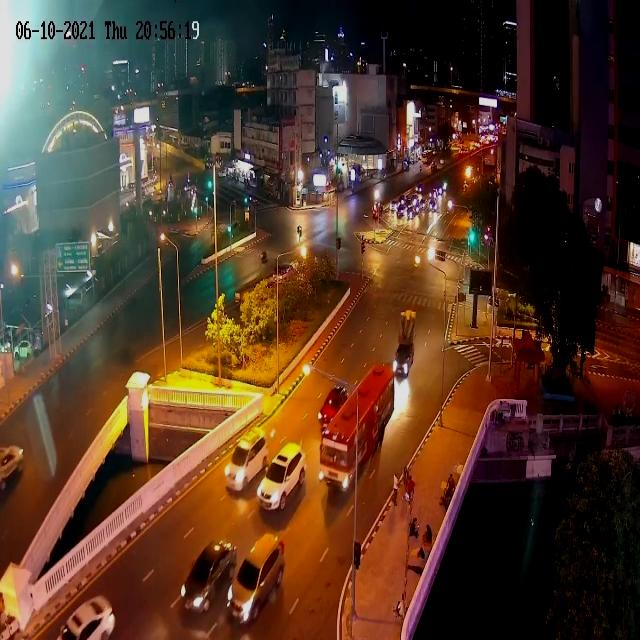Car: (227, 532, 286, 625), (182, 540, 238, 621), (257, 441, 308, 511), (224, 428, 271, 492), (56, 593, 116, 638), (318, 384, 350, 428), (0, 444, 24, 489), (393, 342, 414, 379), (270, 260, 298, 284), (427, 183, 448, 211), (227, 220, 241, 236), (396, 199, 407, 217), (390, 198, 400, 213), (422, 153, 434, 165)
